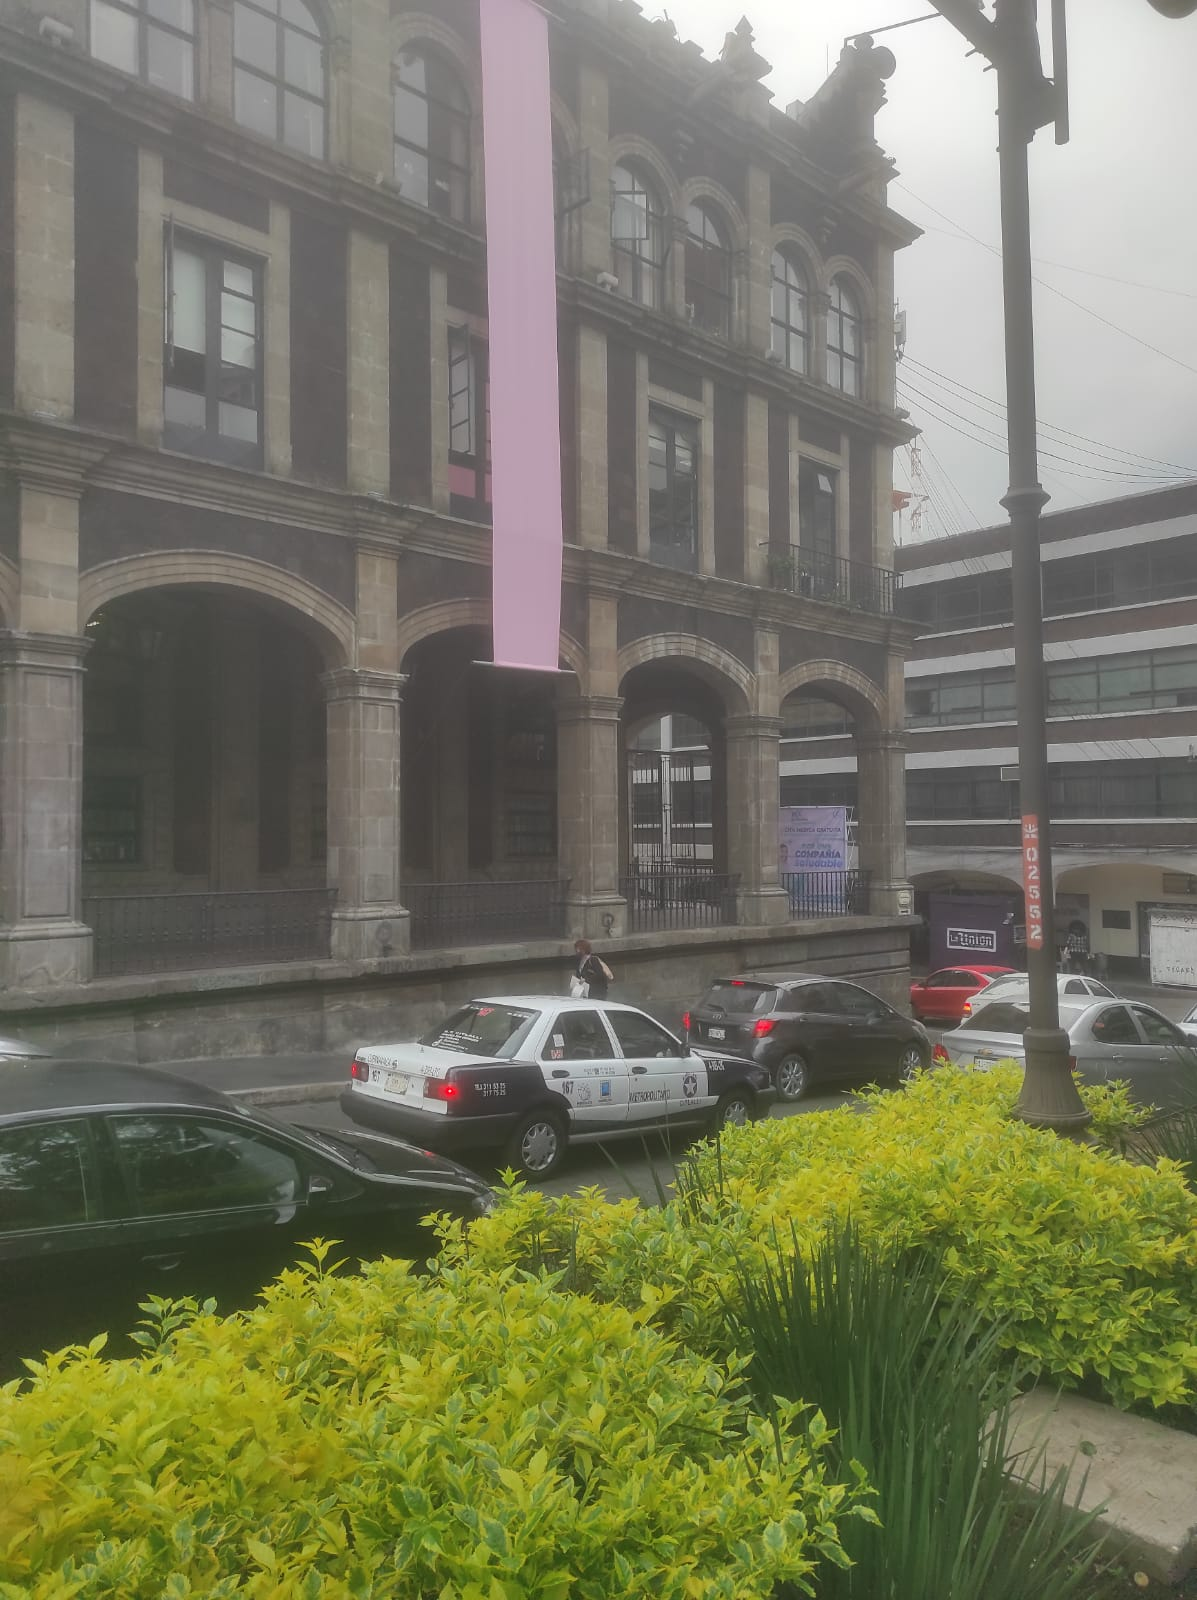Auto: (1, 1058, 498, 1375), (342, 994, 781, 1180), (684, 970, 946, 1097), (937, 987, 1197, 1114)
